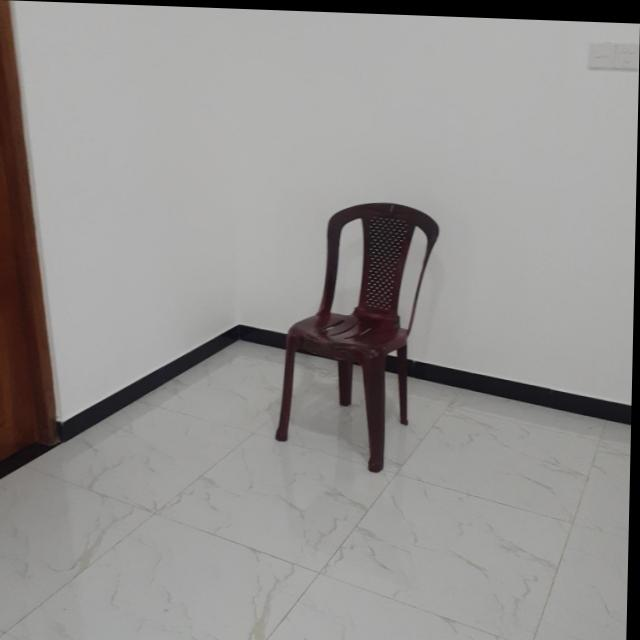Chair: (276, 194, 440, 471)
